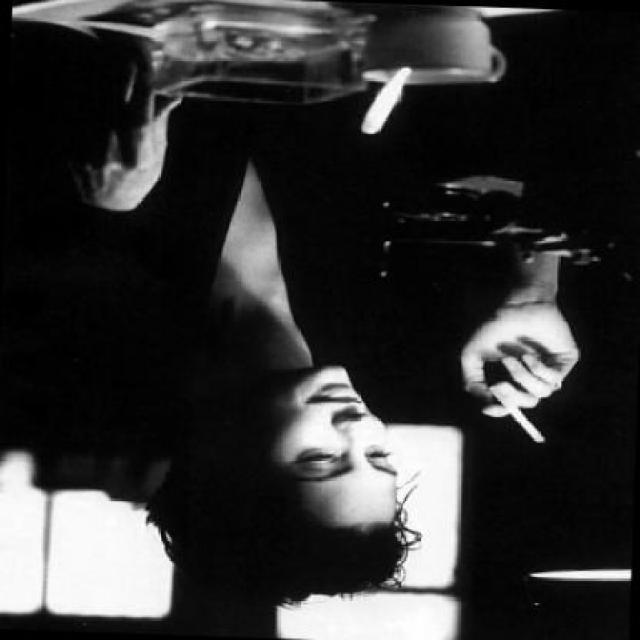smoke: (483, 382, 548, 444)
